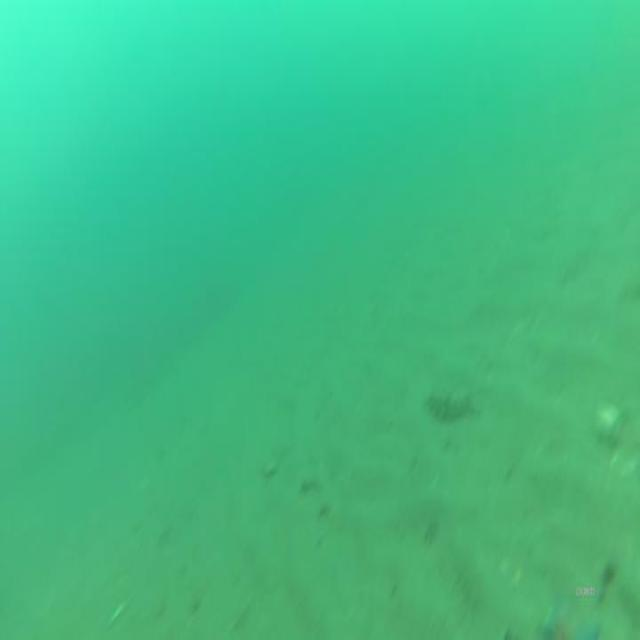holothurian: (418, 381, 482, 427)
starfish: (536, 581, 603, 640)
